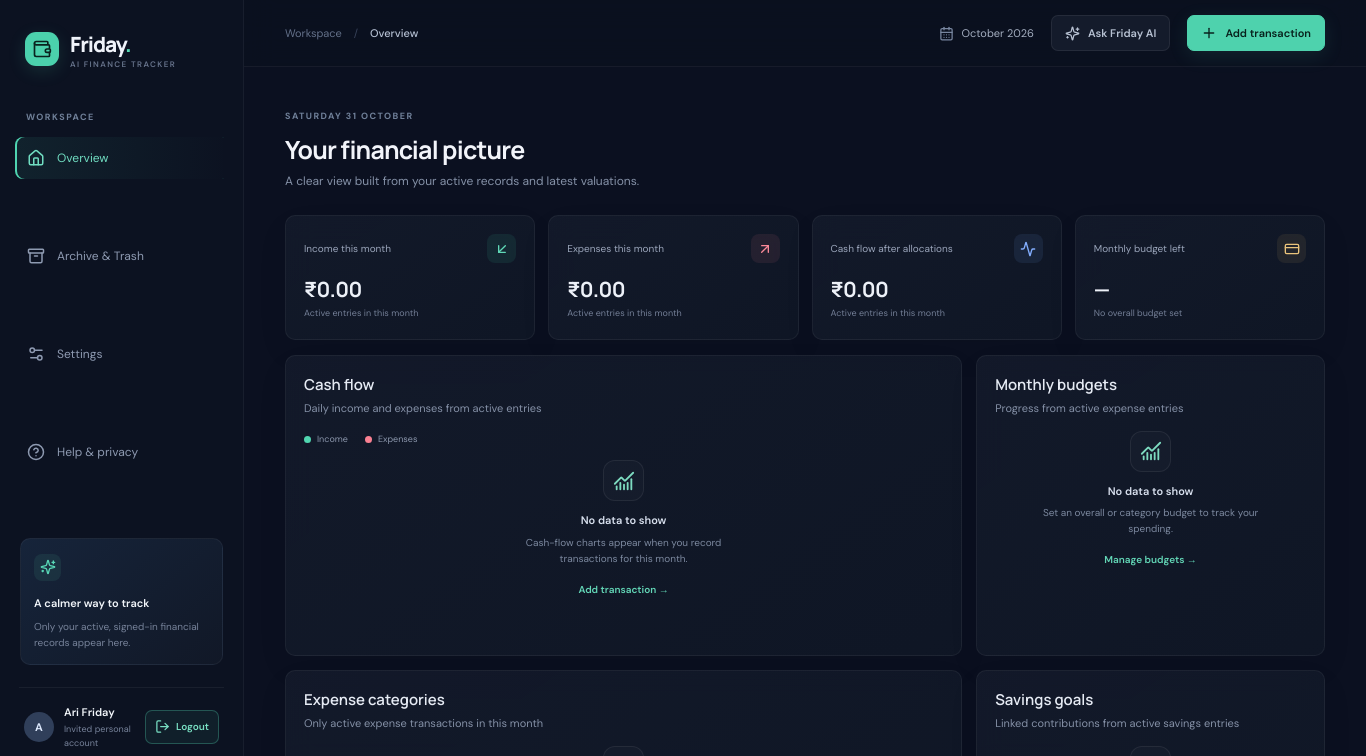
Test: authenticated sidebar logout › shows the signed-in profile and returns to login after Supabase sign-out succeeds
expect the text "Ari Friday" is shown: met, box [64,704,115,718]
Click the button "Logout": [182, 727] box [145,710,219,744]
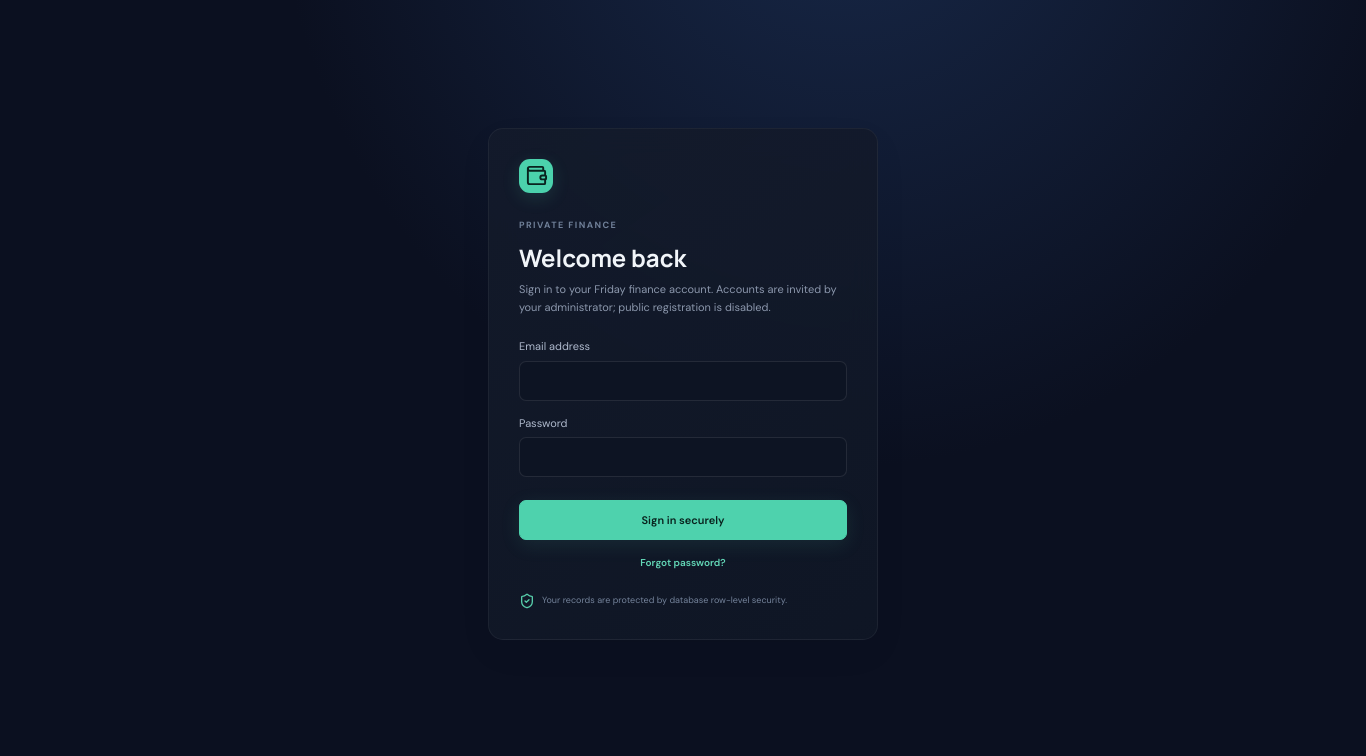
expect the heading "Welcome back" is shown: met, box [519,241,686,274]
